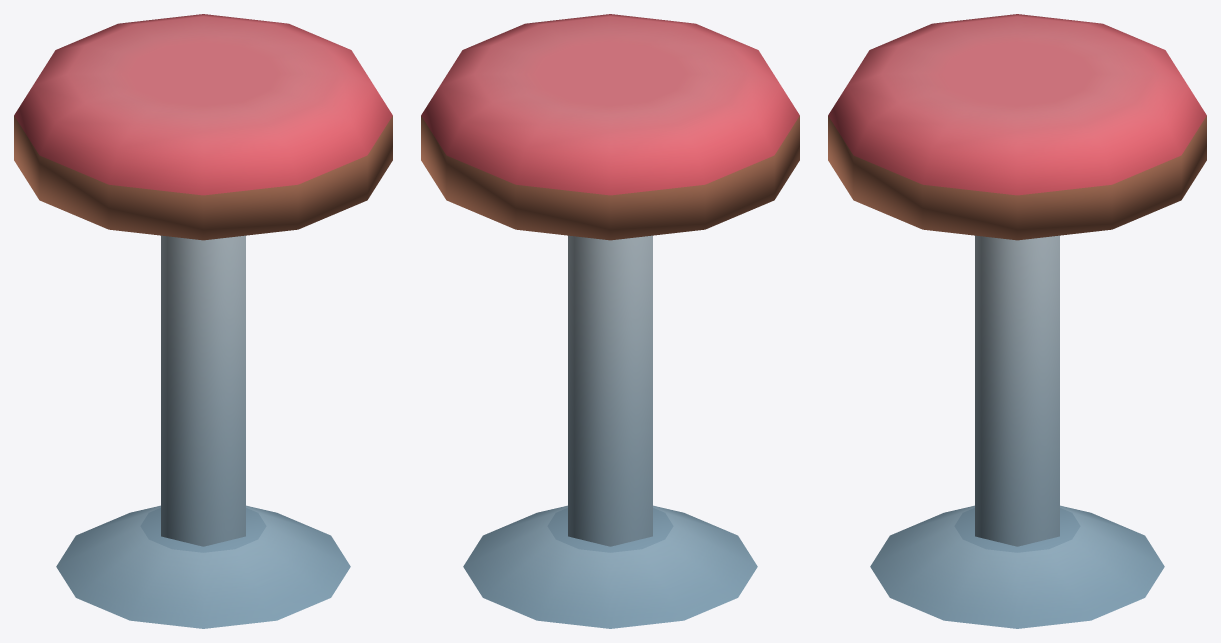
File: Chair.fbx
3 views of the same model, side by side, from view 1: azimuth 30°, elevation 25°; view 2: azimuth 150°, elevation 25°; view 3: azimuth 270°, elevation 25° (orthographic).
Visible parts, largest first — view 1: Chair; view 2: Chair; view 3: Chair.
Part boxes in pixels (x1,y1,x2,y2): Chair: (14, 14, 392, 628); Chair: (421, 14, 799, 628); Chair: (828, 14, 1206, 628).
Size of the model in its own units: 58.61 by 84.07 by 58.61.
